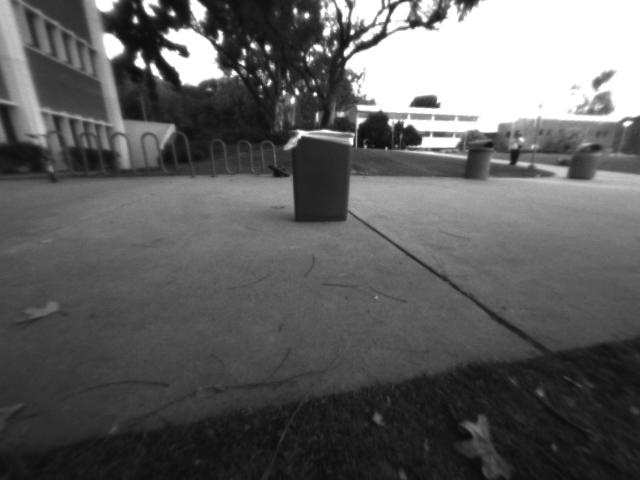trashcan_open: (286, 128, 355, 224)
